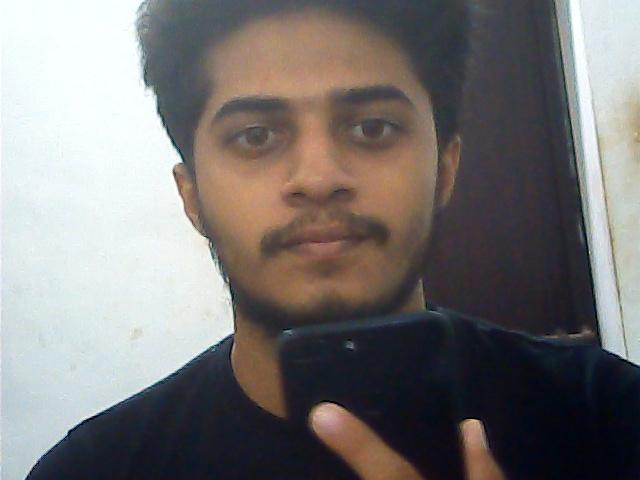PhoneUse: (264, 316, 502, 472)
SafeDriving: (327, 95, 419, 155), (216, 108, 300, 160)
